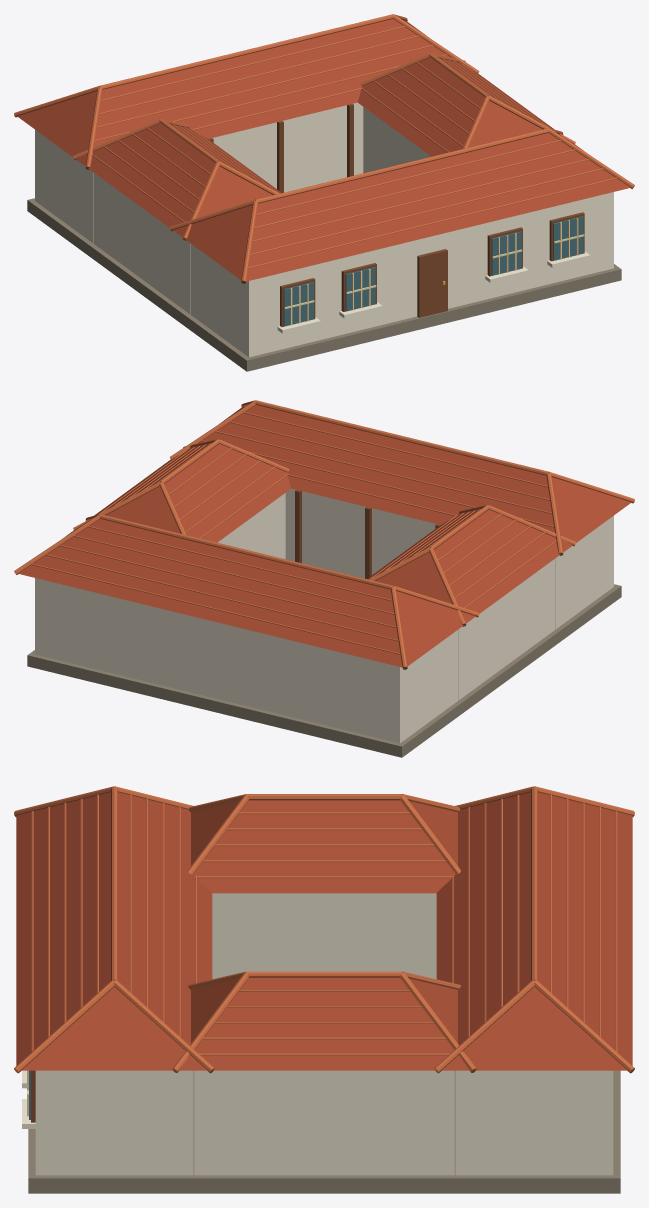
The model's file is Nalukettu_Courtyard.glb.
3 renders of one model, top to bottom at view 1: azimuth 30°, elevation 25°; view 2: azimuth 150°, elevation 25°; view 3: azimuth 270°, elevation 25°, orthographic. The views are drawn at different scales.
Parts seen in each view (by area): view 1: Nalukettu_Courtyard; view 2: Nalukettu_Courtyard; view 3: Nalukettu_Courtyard.
Boxes of the visible parts, x1,y1,x2,y2 form: Nalukettu_Courtyard: (14, 14, 634, 371); Nalukettu_Courtyard: (14, 400, 634, 757); Nalukettu_Courtyard: (14, 786, 634, 1193).
Size of the model in its own units: 14.01 by 4.72 by 14.19.
